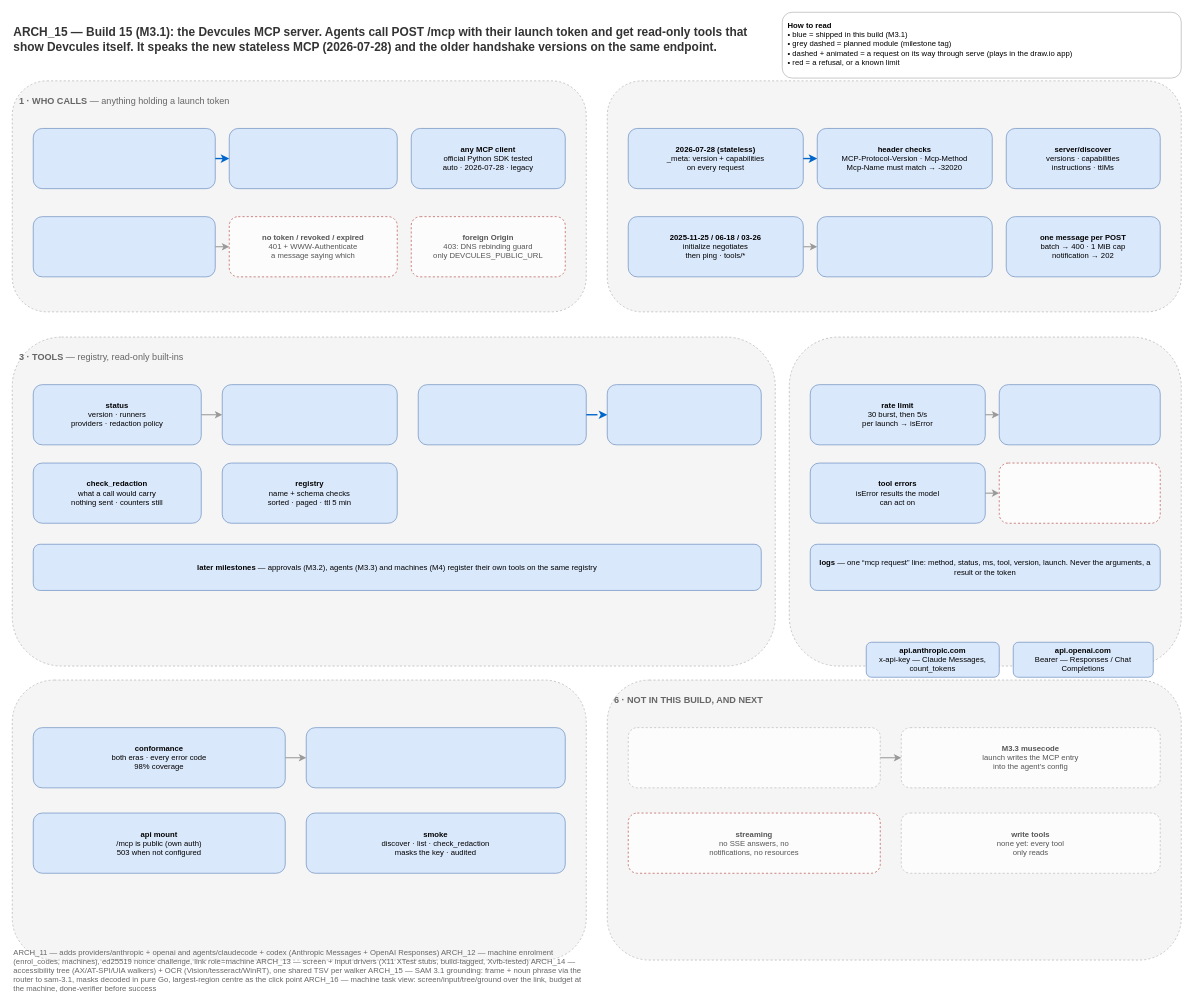
The diagram is 1194 pixels wide and 1006 high, and some of its shapes have lost their labels. The shapes that lost their labels are listed below. From the top down, each one's box as (x1, y1, x2, y2) in pixels, then its label:
(33, 128, 215, 189): coding agent Muse Code, Claude Code, Codex registered at launch (M3.3)
(229, 128, 397, 189): assistant built-in on Muse Spark (M5.1) uses the same tools
(607, 80, 1181, 312): 2 · TWO PROTOCOL ERAS, ONE ENDPOINT — internal/mcp server.go
(33, 216, 215, 277): launch token Authorization: Bearer dvl_… same one as /llm/
(817, 216, 992, 277): no sessions no Mcp-Session-Id · no GET stream GET / DELETE → 405
(222, 384, 397, 445): launch_info the caller's own launch label · provider · expiry
(418, 384, 586, 445): my_trace the caller's own model calls placeholders · never others
(607, 384, 761, 445): list_terminals the runner's tmux sessions via the terminal relay
(999, 384, 1160, 445): audit mcp.call · actor launch:<id> tool · label · error
(789, 336, 1181, 666): 4 · GUARD RAILS — per call
(999, 462, 1160, 523): internal errors logged; the model sees only “internal error in <tool>”
(306, 727, 565, 788): official SDK mcp 2.3.0 connects in auto, modern and legacy
(628, 727, 880, 788): M3.2 approvals approval hooks and Web Push tools that wait for you
(12, 679, 586, 960): 5 · PROOF — conformance tests and the compose smoke
